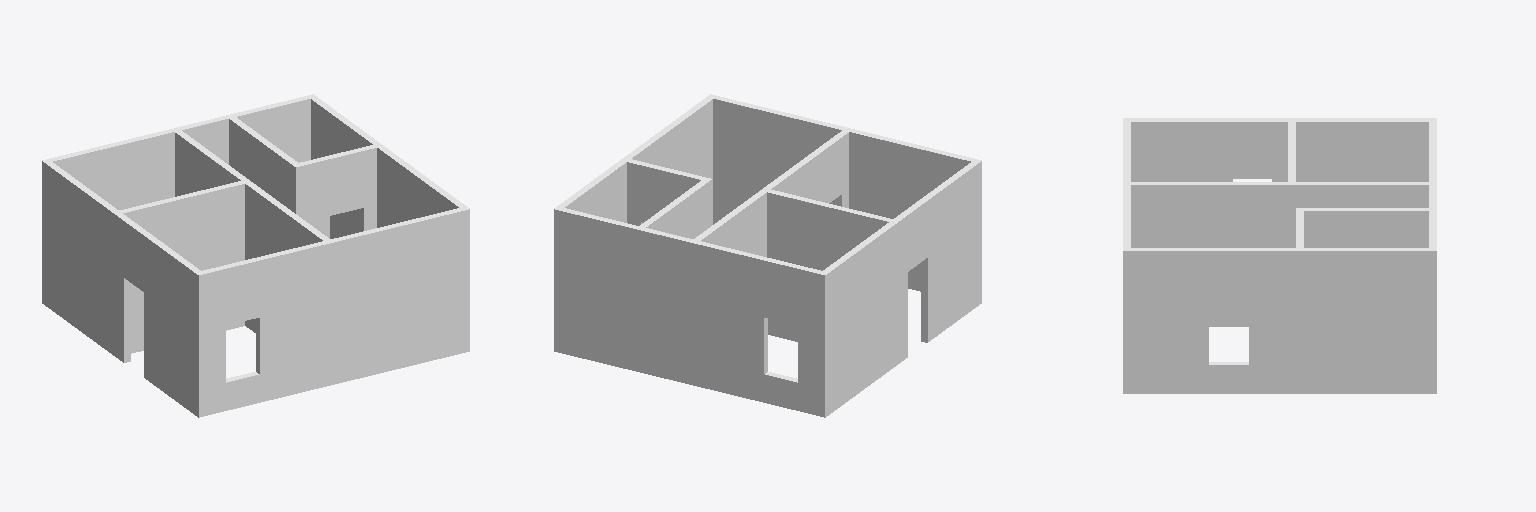
Rendered from room_windowed.obj.
The picture shows the model from 3 angles: view 1: azimuth 30°, elevation 25°; view 2: azimuth 150°, elevation 25°; view 3: azimuth 270°, elevation 25°; orthographic projection.
Parts seen in each view (by area): view 1: room_windowed; view 2: room_windowed; view 3: room_windowed.
Boxes of the visible parts, x1,y1,x2,y2 form: room_windowed: [42, 94, 469, 417]; room_windowed: [554, 94, 981, 417]; room_windowed: [1123, 118, 1436, 393].
Size of the model in its own units: 40 by 20 by 40.